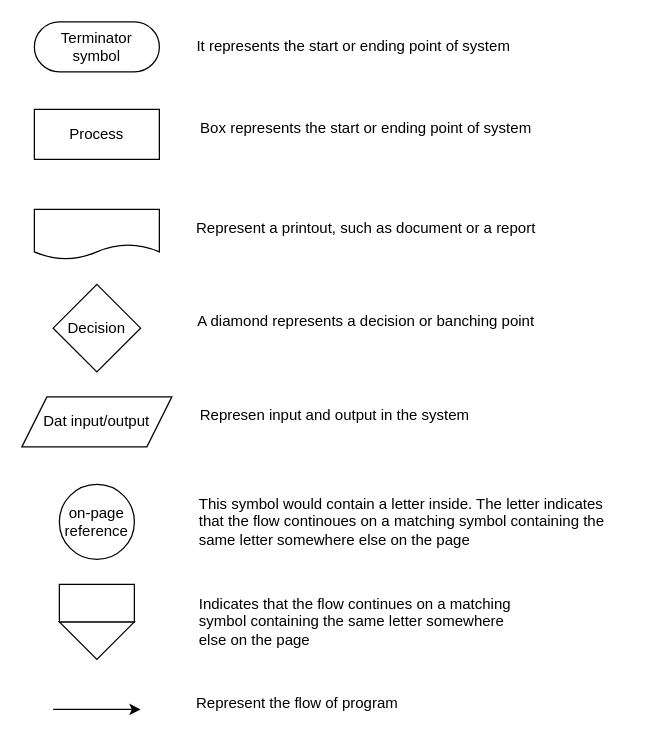
Some shapes in this 656 by 744 pixel diagram are drawn without their labels. Each missing label, with the centre of its shape:
"Document" goes at (x=96, y=233).
"off-page reference" goes at (x=96, y=602).
